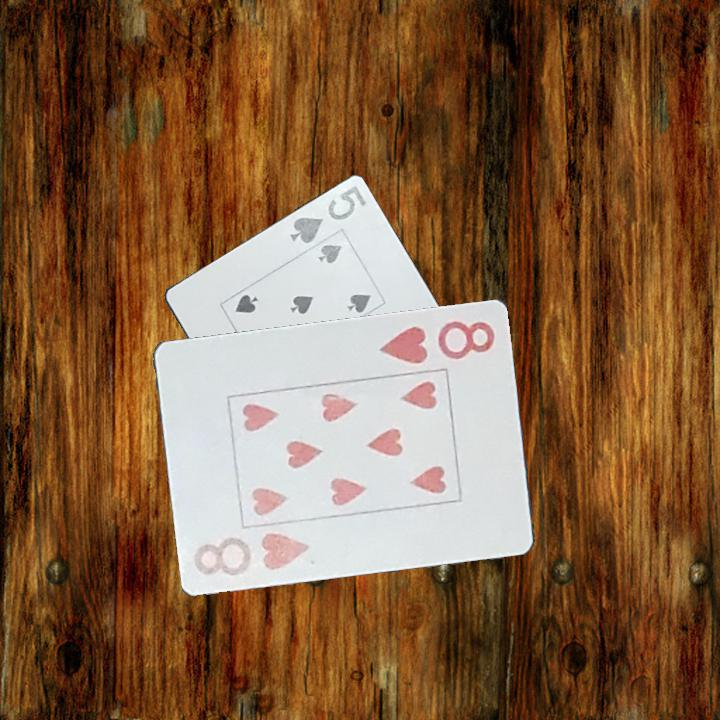5s: (286, 182, 368, 247)
8h: (376, 316, 499, 367), (190, 528, 313, 579)
